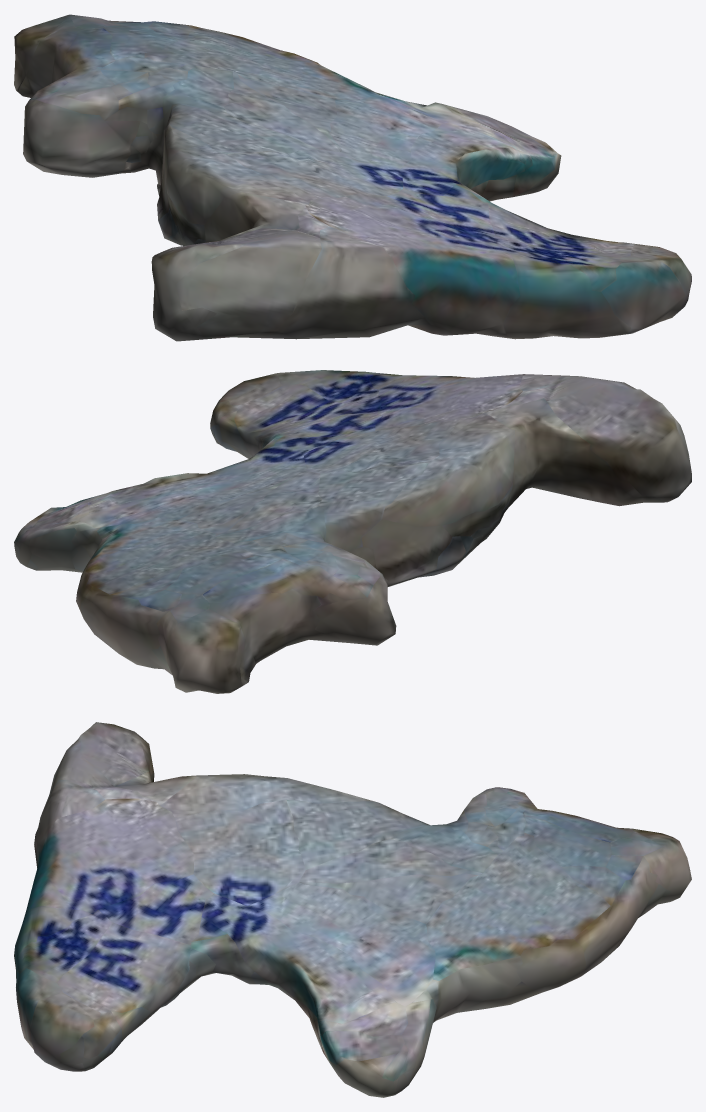
File: hall.glb
The picture shows the model from 3 angles, top to bottom: view 1: azimuth 30°, elevation 25°; view 2: azimuth 150°, elevation 25°; view 3: azimuth 270°, elevation 25°; orthographic projection. The views are drawn at different scales.
Size of the model in its own units: 0.5455 by 0.1628 by 0.6492.
Materials: 1 (1 with a texture image).
